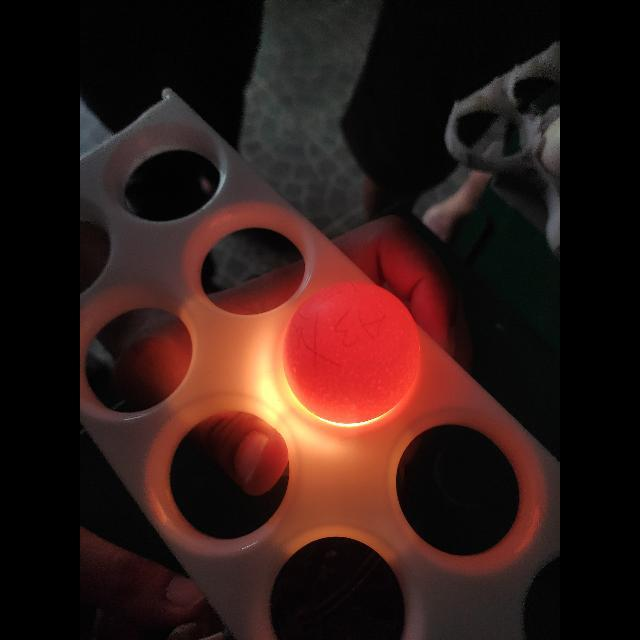Infertile: (282, 276, 420, 424)
